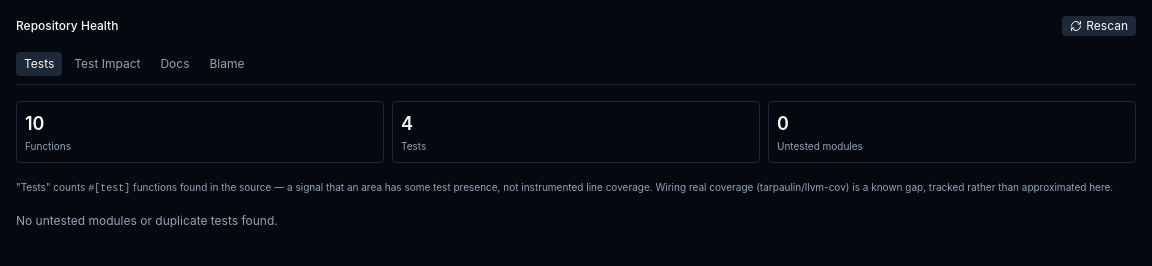
Test case: RepoHealthPanel › Docs tab finds stale docs
Check: the text "No untested modules or duplicate tests found." is shown, box [16,213,278,228]
Click the button "docs" at (175, 64), box [152,52,198,76]
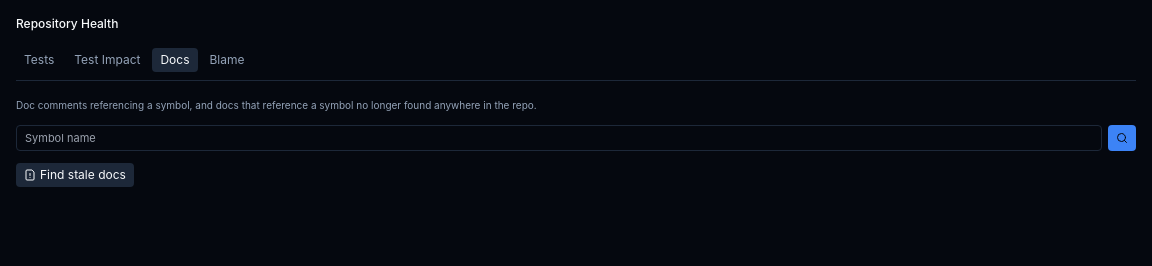
Click the button "Find stale docs" at (75, 175), box [16,163,134,187]
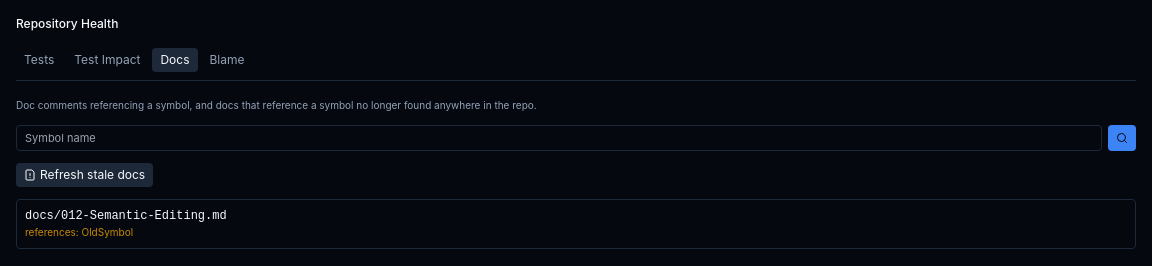
Check: the text "docs/012-Semantic-Editing.md" is shown, box [25,209,227,223]
